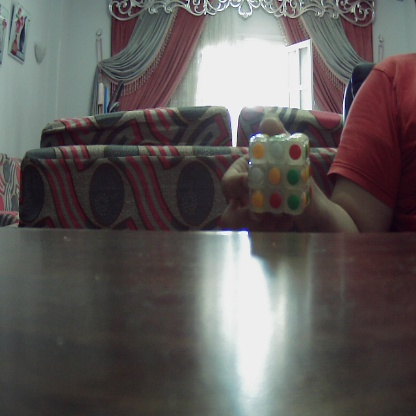Rubix Cube: (247, 133, 311, 217)
